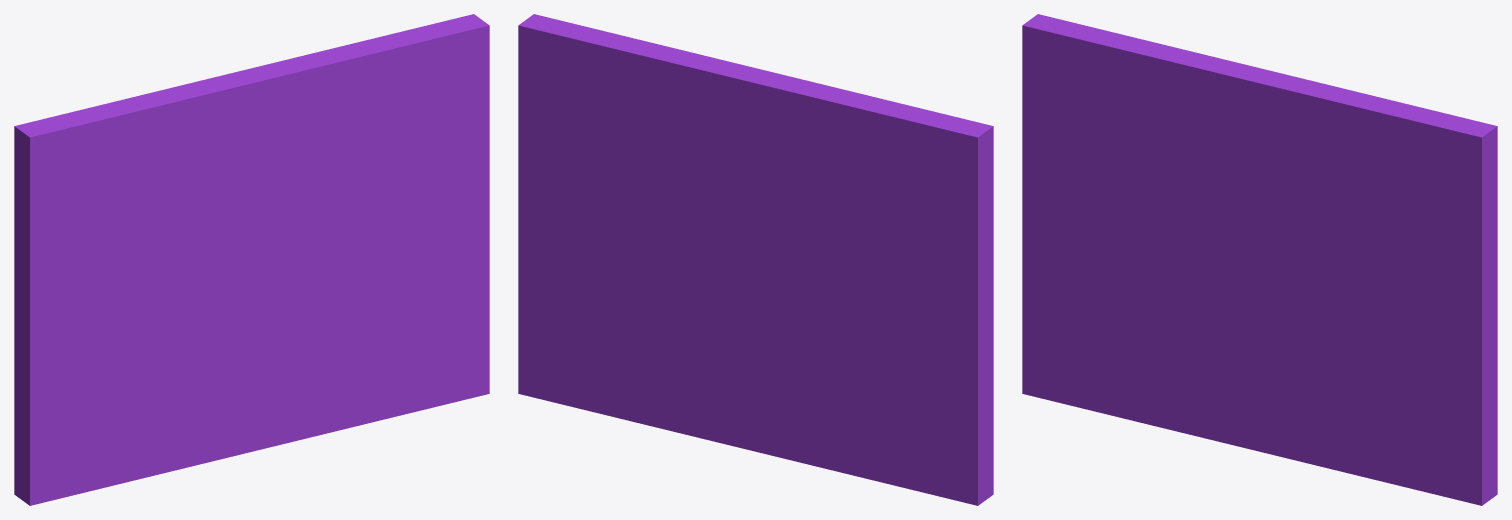
File: Barrier_135_chunks.fbx
The picture shows the model from 3 angles, left to right: view 1: azimuth 30°, elevation 25°; view 2: azimuth 150°, elevation 25°; view 3: azimuth 330°, elevation 25°; orthographic projection.
Visible parts, largest first — view 1: Barrier_135_2, Barrier_135_1, Barrier_135_5, Barrier_135_6, Barrier_135_3, Barrier_135_4; view 2: Barrier_135_2, Barrier_135_1, Barrier_135_5, Barrier_135_4, Barrier_135_0, Barrier_135_3, Barrier_135_6; view 3: Barrier_135_2, Barrier_135_1, Barrier_135_5, Barrier_135_6, Barrier_135_3, Barrier_135_4.
Boxes of the visible parts, box(x1,y1,x2,y2) form: Barrier_135_2: box(257, 14, 489, 416); Barrier_135_1: box(14, 53, 319, 347); Barrier_135_5: box(14, 336, 210, 505); Barrier_135_6: box(196, 269, 396, 440); Barrier_135_3: box(61, 262, 264, 367); Barrier_135_4: box(202, 411, 297, 463); Barrier_135_2: box(518, 14, 737, 411); Barrier_135_1: box(680, 55, 993, 357); Barrier_135_5: box(819, 337, 993, 505); Barrier_135_4: box(643, 358, 832, 470); Barrier_135_0: box(590, 243, 776, 423); Barrier_135_3: box(747, 281, 958, 383); Barrier_135_6: box(669, 312, 778, 395); Barrier_135_2: box(1250, 86, 1497, 505); Barrier_135_1: box(1022, 14, 1334, 260); Barrier_135_5: box(1022, 236, 1202, 435); Barrier_135_6: box(1189, 271, 1388, 483); Barrier_135_3: box(1054, 239, 1256, 336); Barrier_135_4: box(1195, 387, 1290, 459).
Size of the model in its own units: 376 by 288 by 22.1.
